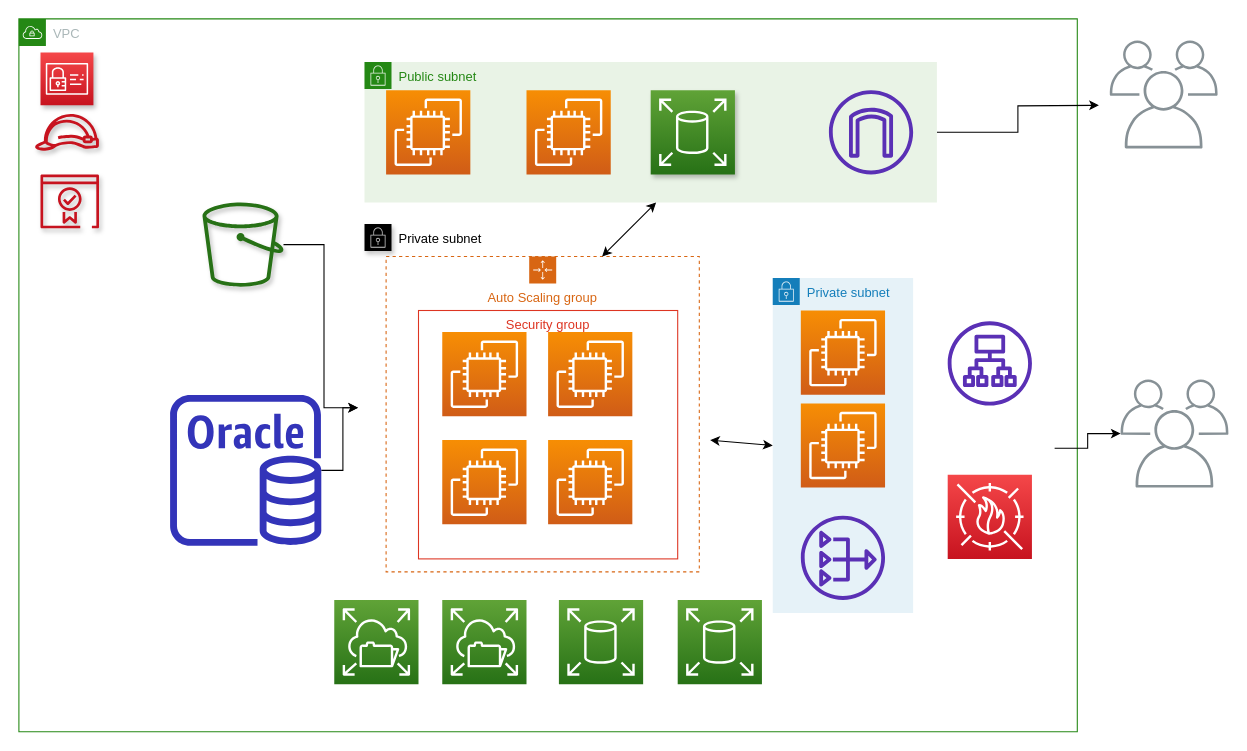
Some shapes in this 1247 by 751 pixel diagram are drawn without their labels. Here are the shapes that lost their labels. From the top down, the centre of each, then its label:
[1163,94]: Admin
[1174,433]: users
